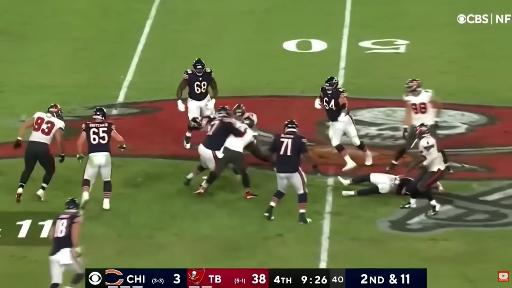Helmet: (47, 104, 63, 119), (415, 123, 430, 139), (192, 58, 206, 75), (405, 79, 421, 92), (93, 107, 106, 121), (325, 77, 338, 91), (65, 198, 80, 210), (233, 104, 245, 118), (284, 120, 298, 132), (216, 106, 231, 116), (243, 117, 255, 128)
Jersey: (270, 134, 307, 173), (202, 118, 245, 151), (50, 213, 82, 255), (29, 112, 65, 144), (404, 90, 435, 125), (82, 122, 115, 154), (224, 123, 257, 152), (419, 135, 445, 171), (184, 69, 213, 101), (321, 87, 346, 121), (396, 178, 416, 195), (243, 113, 257, 125)
Player: (264, 120, 317, 223), (315, 77, 372, 170), (15, 104, 65, 202), (77, 107, 125, 209), (388, 79, 441, 170), (195, 107, 246, 194), (217, 116, 269, 198), (401, 124, 446, 215), (177, 59, 218, 148), (49, 198, 84, 287), (233, 104, 269, 162), (338, 173, 413, 196), (240, 116, 271, 162), (184, 144, 214, 185), (233, 104, 257, 126)
